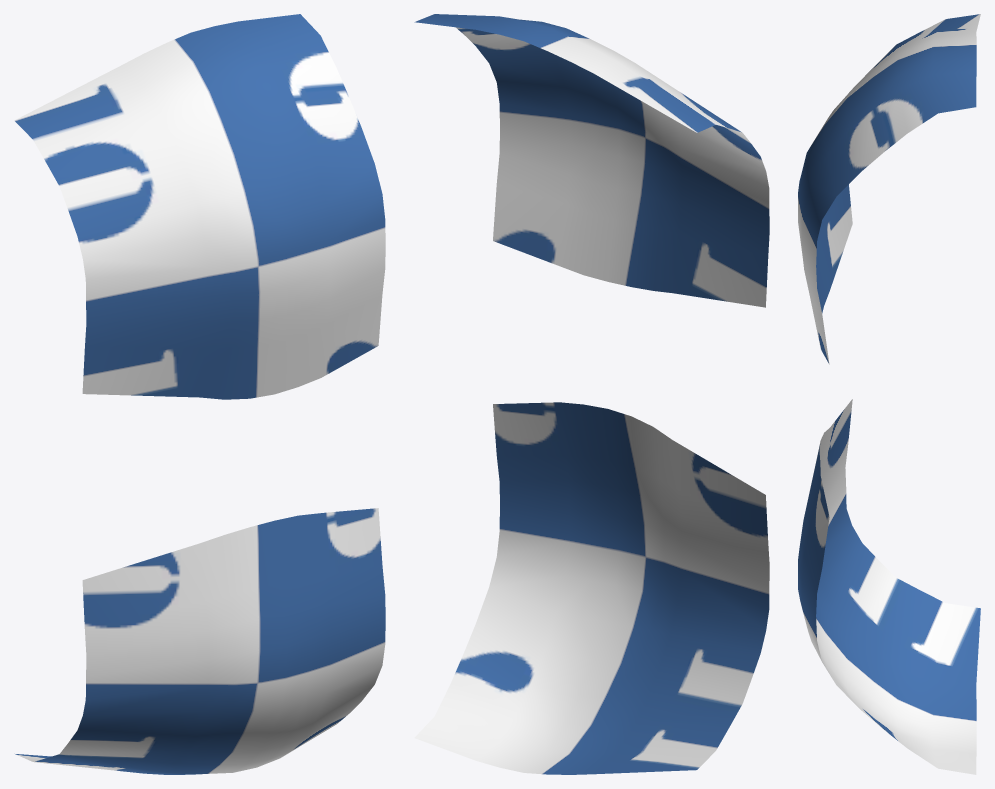
File: Akaza_Angry3_1.fbx
3 views of the same model, side by side, from view 1: azimuth 30°, elevation 25°; view 2: azimuth 150°, elevation 25°; view 3: azimuth 270°, elevation 25° (orthographic). The views are drawn at different scales.
Parts seen in each view (by area): view 1: SM_e_Plc_P1012_Angry003; view 2: SM_e_Plc_P1012_Angry003; view 3: SM_e_Plc_P1012_Angry003.
Boxes of the visible parts, left/top/right/bottom form: SM_e_Plc_P1012_Angry003: left=14, top=14, right=385, bottom=774; SM_e_Plc_P1012_Angry003: left=414, top=14, right=769, bottom=774; SM_e_Plc_P1012_Angry003: left=798, top=14, right=980, bottom=774.
Bounding box in the file's own units: 6.36 × 15.62 × 3.78.
